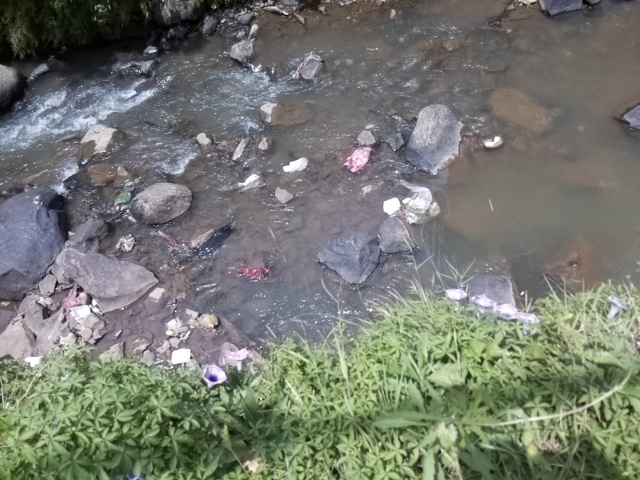Sampah_Plastik: (402, 180, 437, 227), (343, 144, 371, 175), (238, 263, 270, 281), (61, 289, 84, 308)
Sampah_Styrofoam: (167, 348, 193, 365), (380, 198, 401, 217), (283, 158, 307, 174)
